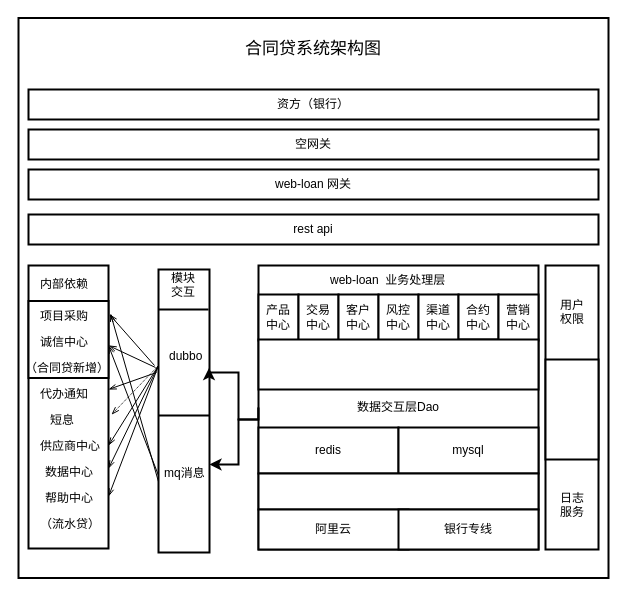
The diagram is 626 pixels wide and 596 high, and some of its shapes have lost their labels. Each missing label, with the centre of its shape:
异常 处理: point 571,409
模块内部适配层manager: point 398,364
网络层: point 398,491
